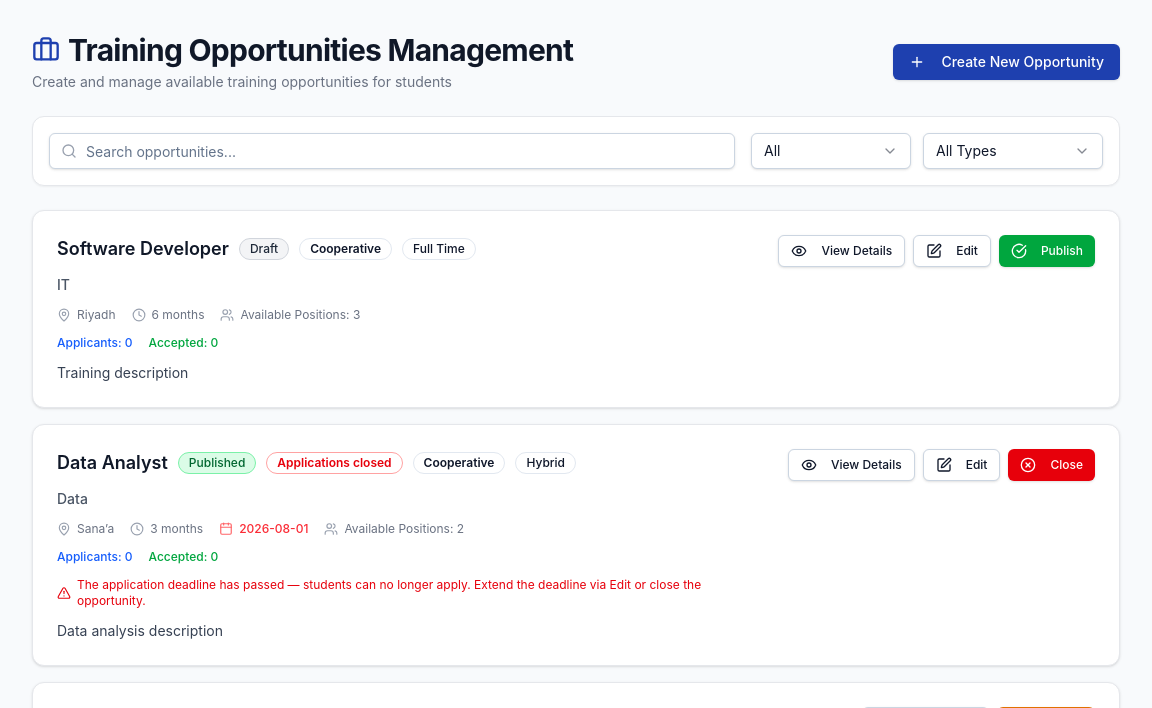
Test: OpportunitiesManagementPage & Opportunity Management Operations › displays conflict banner when 409 version_mismatch occurs during edit
This screenshot has width=1152, height=708.
Click the button "Edit" in the row of "Draft": (952, 251) [913,235,991,267]
(page scrolled)
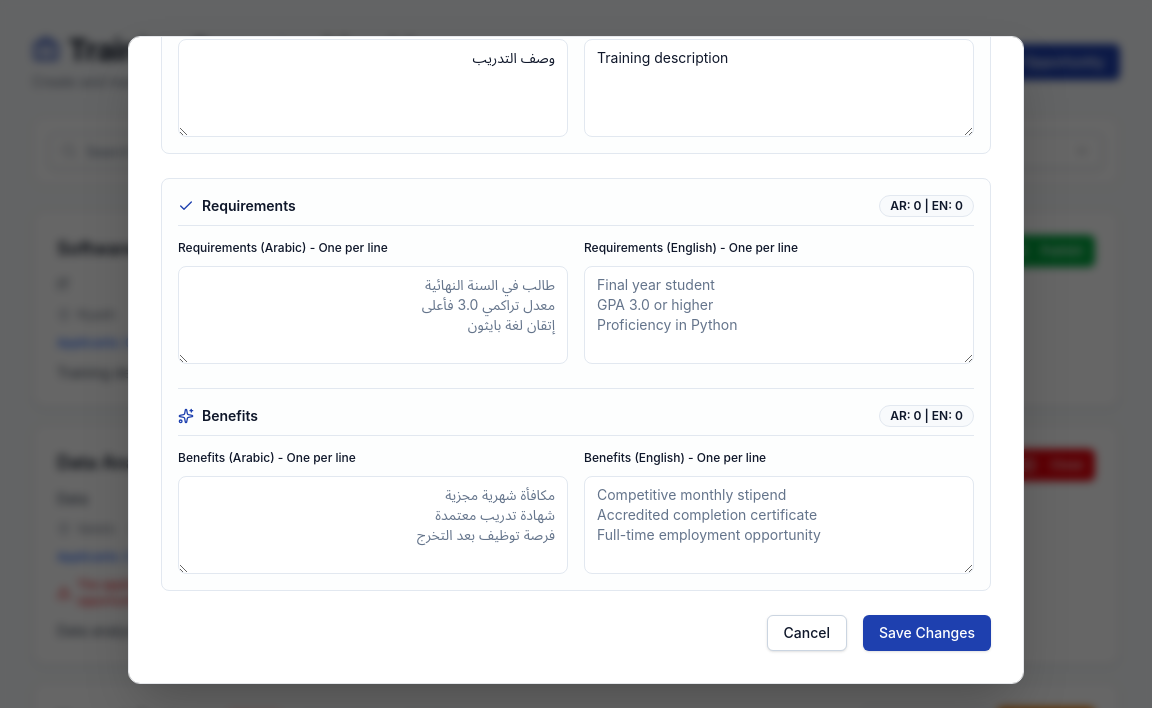
Click the button "Save Changes": (927, 633) [863,615,991,651]
(page scrolled)
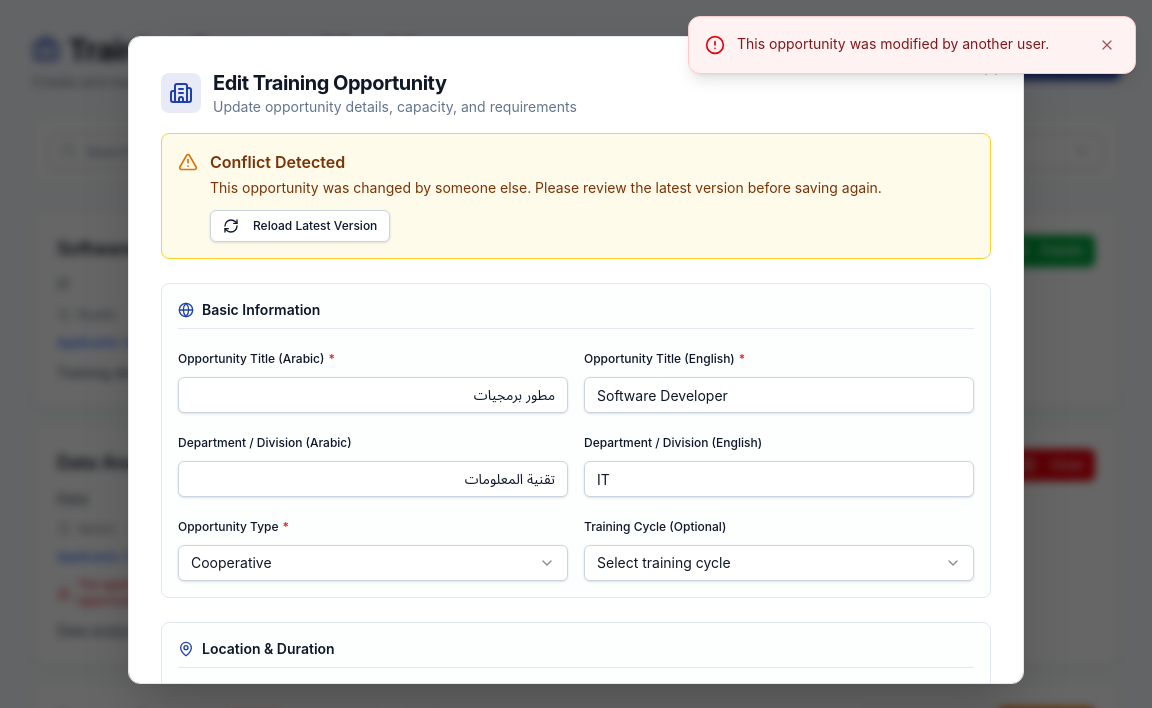
Expected: the heading "Conflict Detected" is shown, [210,152,345,172]
